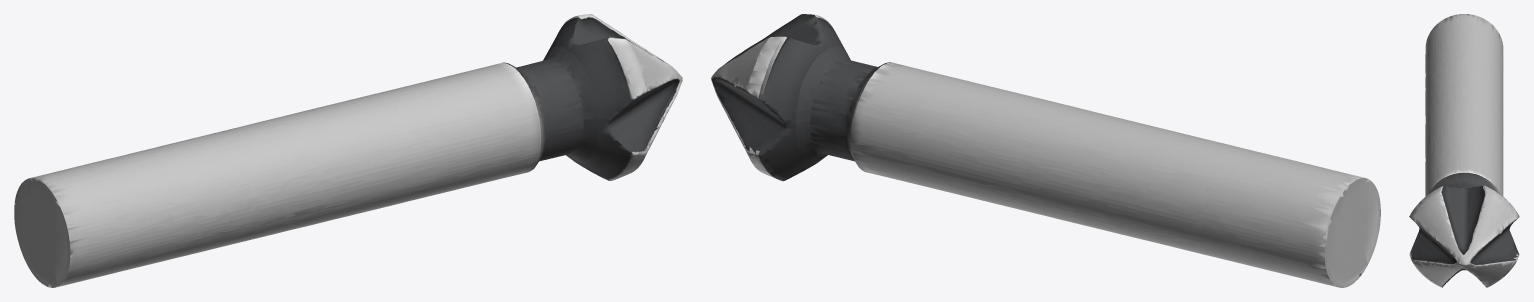
File: tool_131.obj
3 renders of one model, left to right at view 1: azimuth 30°, elevation 25°; view 2: azimuth 150°, elevation 25°; view 3: azimuth 270°, elevation 25°, orthographic. The views are drawn at different scales.
Parts seen in each view (by area): view 1: tool_131_tripo_normalized; view 2: tool_131_tripo_normalized; view 3: tool_131_tripo_normalized.
Part boxes in pixels (bbox=[...]): tool_131_tripo_normalized: bbox=[14, 14, 682, 287]; tool_131_tripo_normalized: bbox=[711, 14, 1380, 287]; tool_131_tripo_normalized: bbox=[1409, 14, 1519, 287].
Bounding box in the file's own units: 76.02 × 16.35 × 16.41.
1 material, 1 textured.
